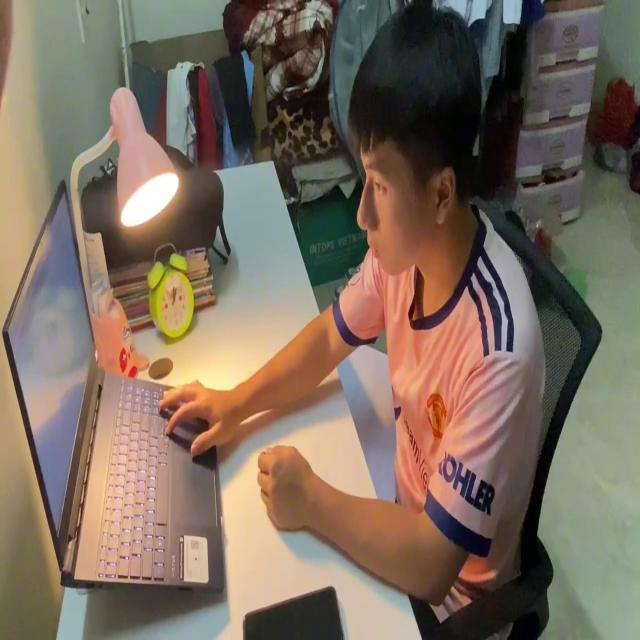book: (338, 325, 400, 505)
laptop: (2, 172, 225, 598)
phone: (241, 582, 345, 640)
student: (162, 1, 544, 614)
